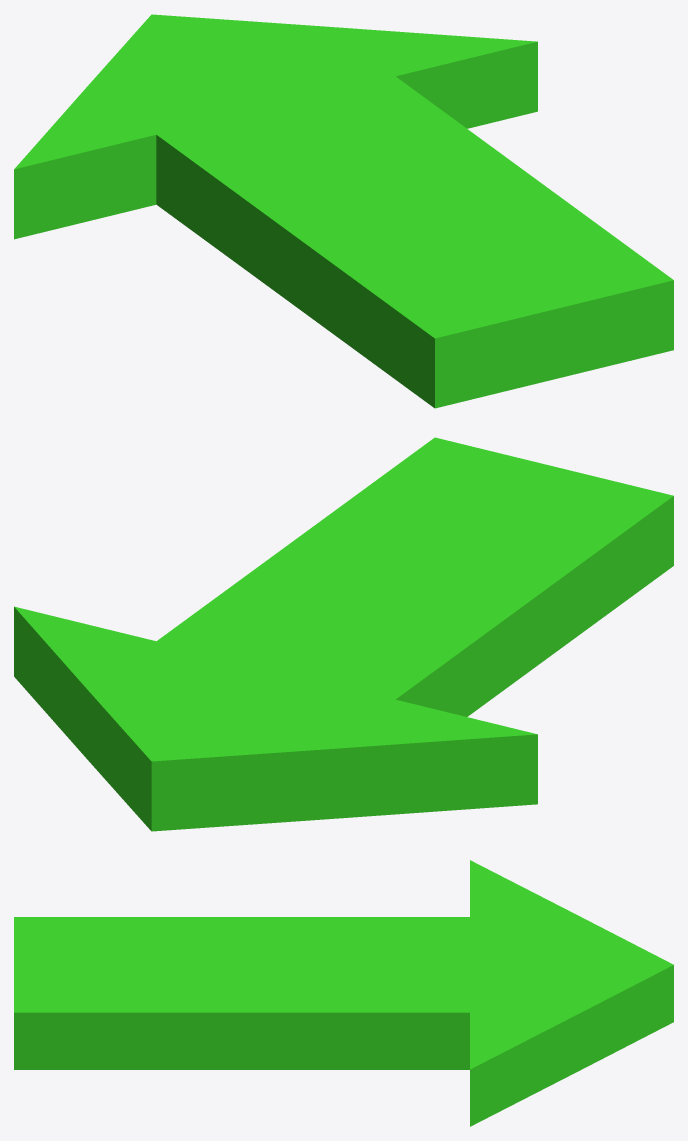
Rendered from Flecha.fbx.
The picture shows the model from 3 angles, top to bottom: view 1: azimuth 30°, elevation 25°; view 2: azimuth 150°, elevation 25°; view 3: azimuth 270°, elevation 25°; orthographic projection. The views are drawn at different scales.
Visible parts, largest first — view 1: SM_Flecha; view 2: SM_Flecha; view 3: SM_Flecha.
Part boxes in pixels (x1,y1,x2,y2): SM_Flecha: (14,14,673,408); SM_Flecha: (14,437,673,831); SM_Flecha: (14,860,673,1126).
Size of the model in its own units: 0.5616 by 0.0717 by 0.7479.
